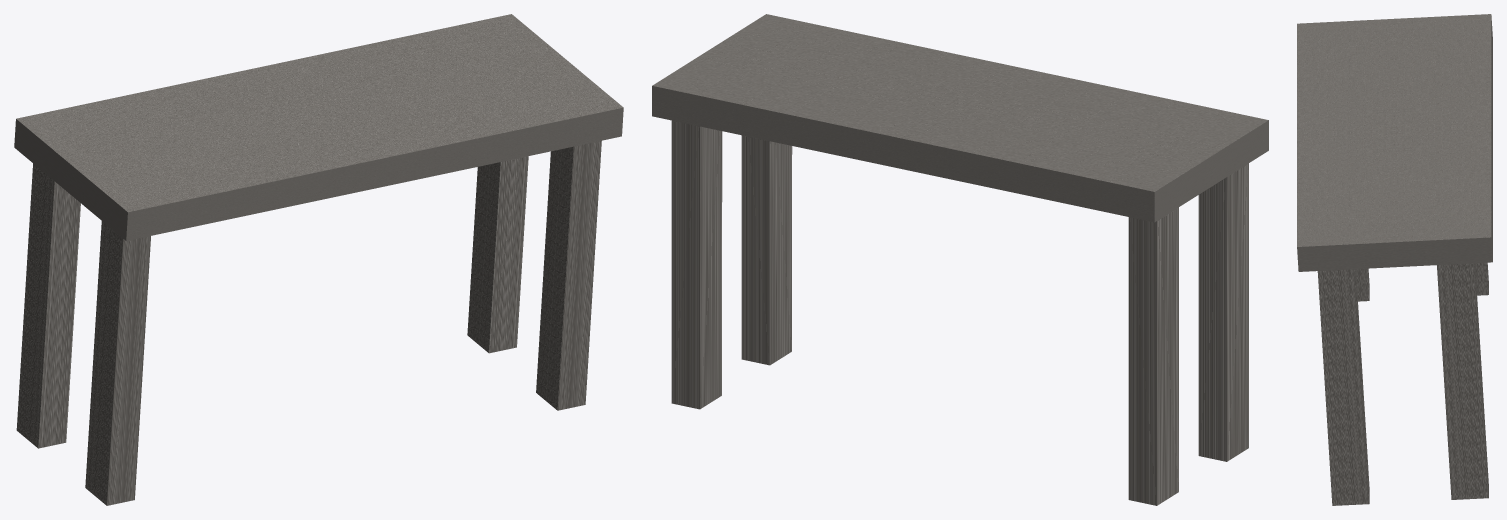
The model's file is table.fbx.
The picture shows the model from 3 angles, left to right: view 1: azimuth 30°, elevation 25°; view 2: azimuth 150°, elevation 25°; view 3: azimuth 270°, elevation 25°; orthographic projection. The views are drawn at different scales.
Visible parts, largest first — view 1: Box003; view 2: Box003; view 3: Box003.
Part boxes in pixels (bbox=[...]): Box003: bbox=[14, 14, 623, 505]; Box003: bbox=[652, 14, 1268, 505]; Box003: bbox=[1297, 14, 1492, 505].
Size of the model in its own units: 52.39 by 33.79 by 20.67.
